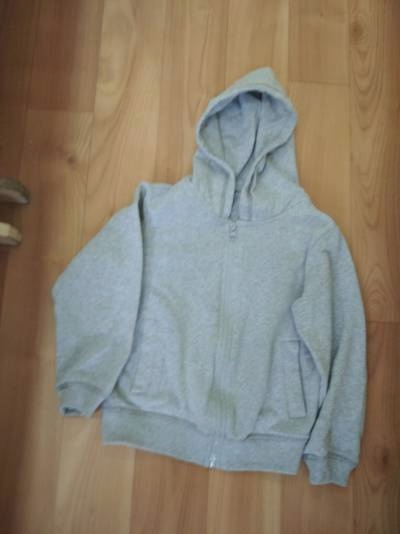Hoodie: (30, 61, 352, 490)
